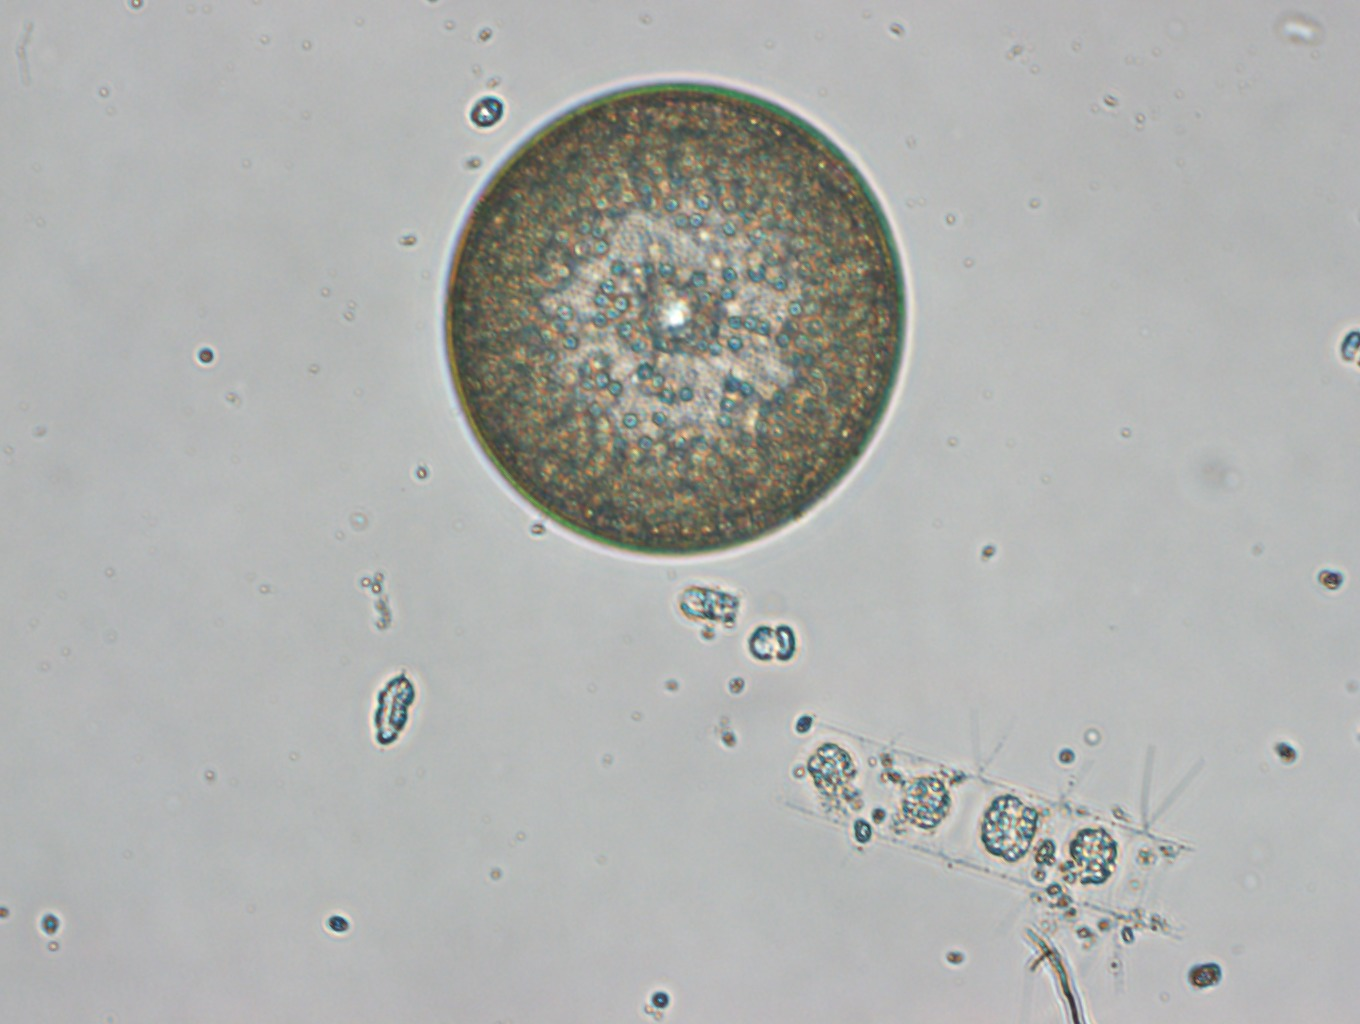chaetoceros: (789, 696, 1205, 985)
coscinodiscus: (442, 72, 914, 558)
